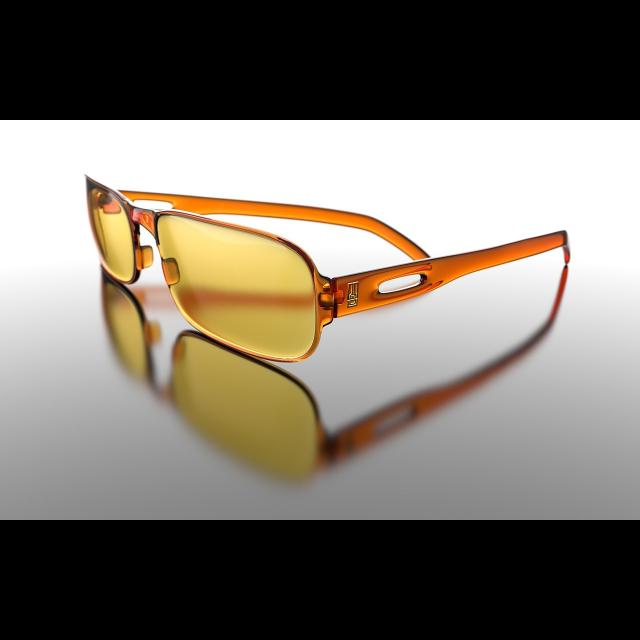Sunglasses: (81, 172, 571, 362)
